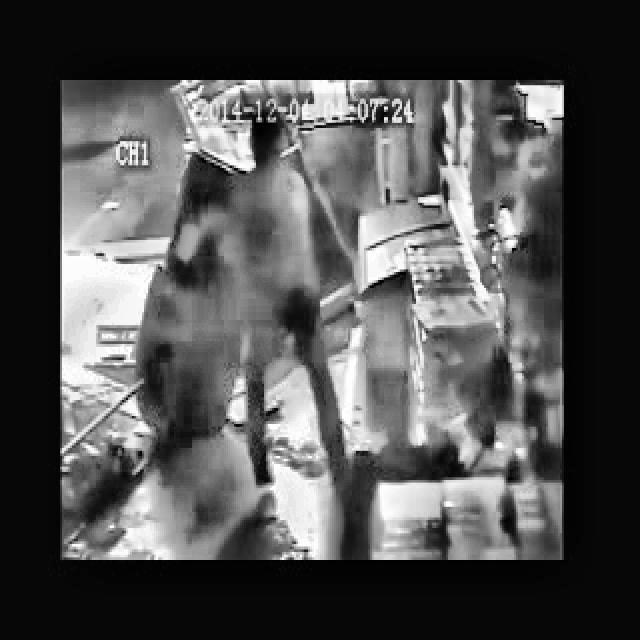burglary: (130, 105, 362, 510)
